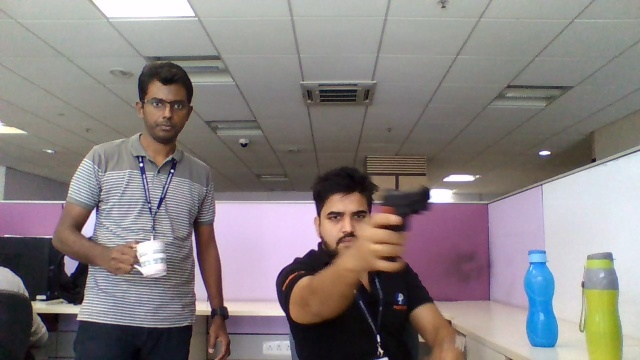gun: (380, 187, 430, 219)
